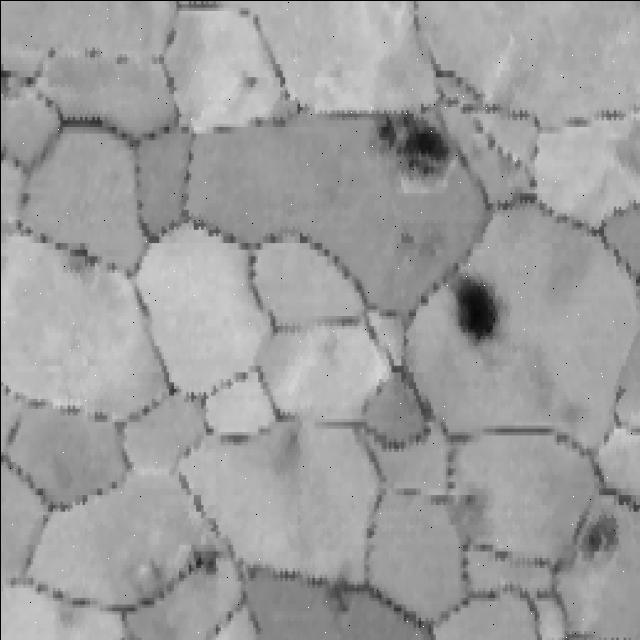good_void: (369, 110, 450, 175), (568, 505, 624, 566), (451, 270, 495, 340), (56, 229, 100, 292), (307, 579, 361, 625), (180, 547, 221, 589), (231, 65, 269, 108), (463, 482, 480, 521), (393, 225, 417, 251)
